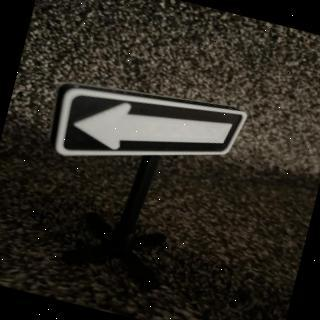sign_oneway_left: (42, 67, 250, 200)
